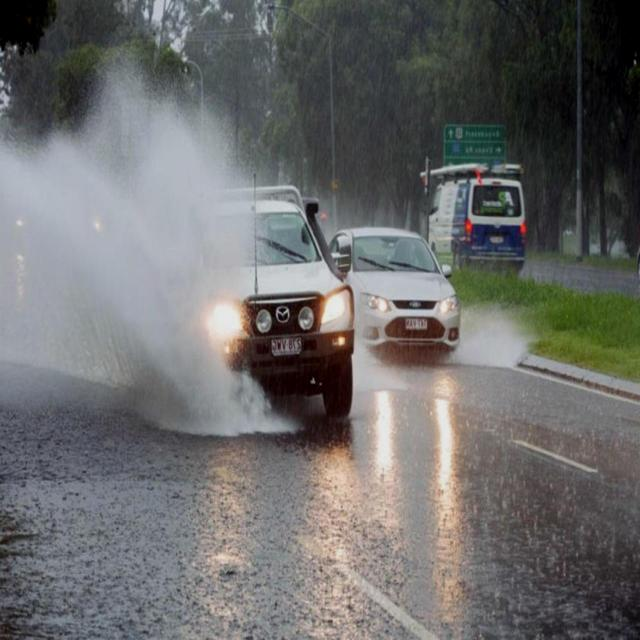Car: (328, 225, 462, 362)
Truck: (187, 183, 354, 411)
Van: (418, 165, 527, 275)
